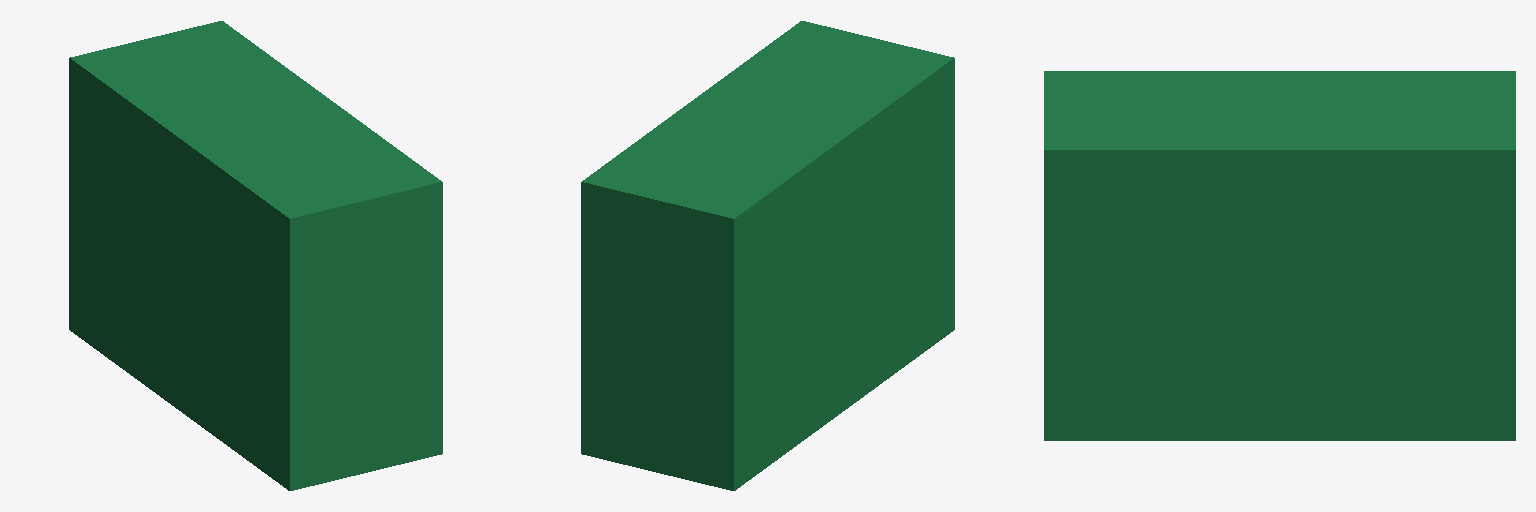
URDF robot description (myfirst):
<?xml version="1.0"?>
 <robot name="myfirst">
   <material name="green">
     <color rgba="0.18039 0.5451 0.341176 1"/>
   </material>
   <link name="right_leg">
     <visual>
       <geometry>
         <box size="0.036 0.09 0.0614"/>
       </geometry>
       <material name="green"/>
     </visual>
     <inertial>
       <mass value="0"/>
       <inertia ixx="1.0" ixy="0.0" ixz="0.0" iyy="1.0" iyz="0.0" izz="1.0"/>
     </inertial>
   </link>
 </robot>

--- Facts derived from the render (not from the file) ---
3 views of the same robot in one strip: view 1: azimuth 30°, elevation 25°; view 2: azimuth 150°, elevation 25°; view 3: azimuth 270°, elevation 25° (orthographic).
Robot: myfirst — 1 links, 0 joints (none); root link right_leg; default pose: all joints at 0.
Visible links, largest first — view 1: right_leg; view 2: right_leg; view 3: right_leg.
Link boxes in pixels (x1=…): right_leg: x1=69, y1=21, x2=442, y2=490; right_leg: x1=581, y1=21, x2=954, y2=490; right_leg: x1=1044, y1=71, x2=1515, y2=440.
Bounding box of the posed robot: 0.036 × 0.09 × 0.0614 m (x, y, z).
Geometry: primitives only (box / cylinder / sphere), no mesh files.